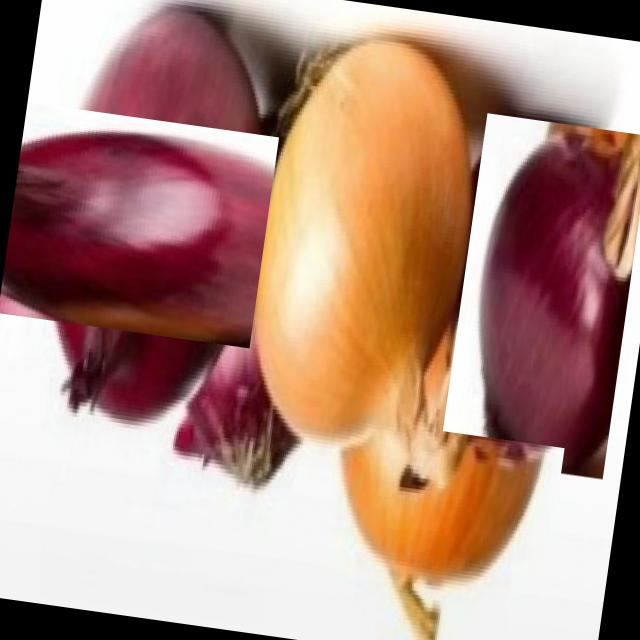Onion: (234, 0, 498, 479), (0, 57, 317, 399), (438, 113, 640, 480), (336, 419, 564, 612)
